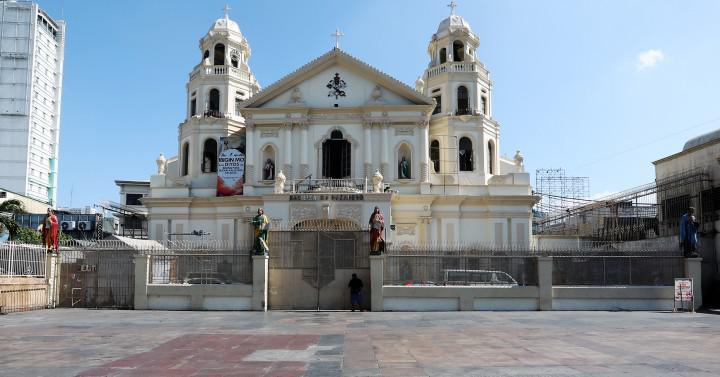quiapo_church_quiapo_manila: (138, 2, 527, 312)
